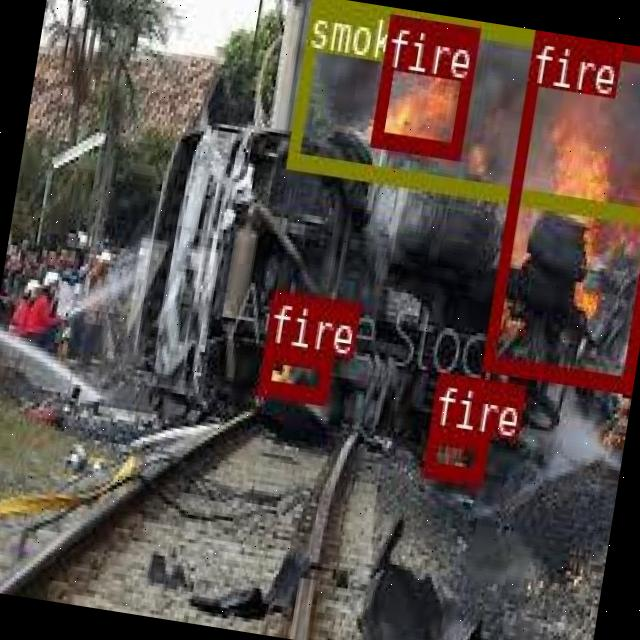fire: (481, 30, 640, 388), (369, 13, 478, 156), (256, 343, 330, 402), (421, 426, 487, 482)
smoke: (285, 0, 640, 221)
